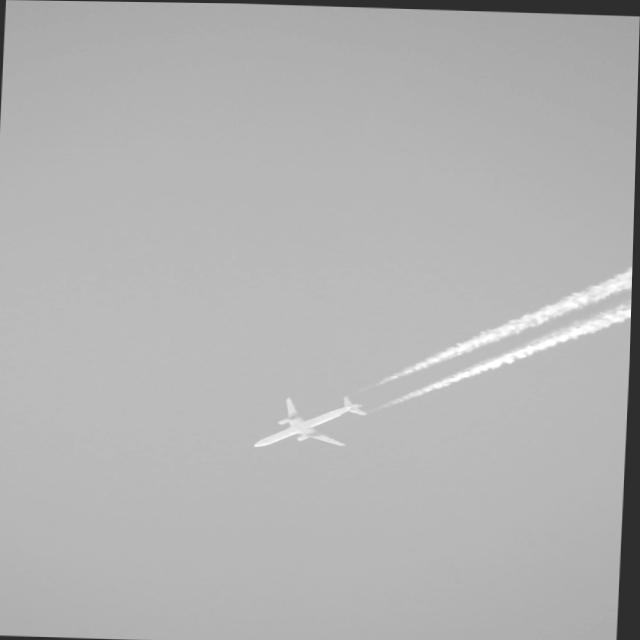aeroplane: (241, 392, 375, 450)
